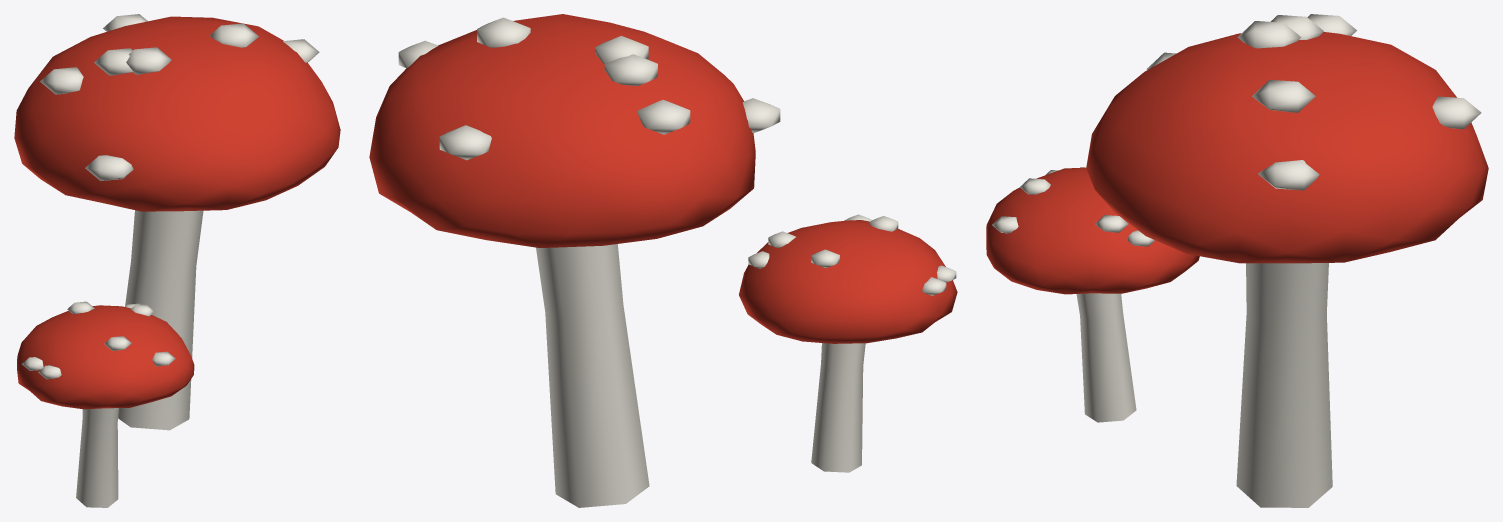
Rendered from red_mushroom_1.glb.
3 views of the same model, side by side, from view 1: azimuth 30°, elevation 25°; view 2: azimuth 150°, elevation 25°; view 3: azimuth 270°, elevation 25° (orthographic). The views are drawn at different scales.
Visible parts, largest first — view 1: red_mushroom_1; view 2: red_mushroom_1; view 3: red_mushroom_1.
Boxes of the visible parts, left/top/right/bottom form: red_mushroom_1: left=14, top=14, right=340, bottom=507; red_mushroom_1: left=369, top=14, right=957, bottom=507; red_mushroom_1: left=986, top=14, right=1488, bottom=507.
Bounding box in the file's own units: 0.3432 × 0.3275 × 0.3257.
